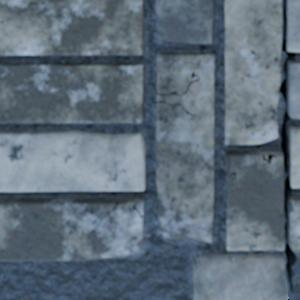brick: (157, 53, 214, 241), (0, 198, 143, 260), (0, 131, 145, 190), (0, 64, 143, 122), (225, 0, 281, 143), (0, 0, 143, 54), (227, 152, 283, 249), (193, 254, 285, 299), (156, 0, 213, 42), (286, 0, 299, 50), (289, 196, 299, 252), (289, 63, 299, 118), (290, 127, 299, 187)
crack: (278, 1, 297, 299), (156, 68, 201, 96), (157, 100, 196, 116), (132, 202, 142, 218), (226, 164, 229, 172)
